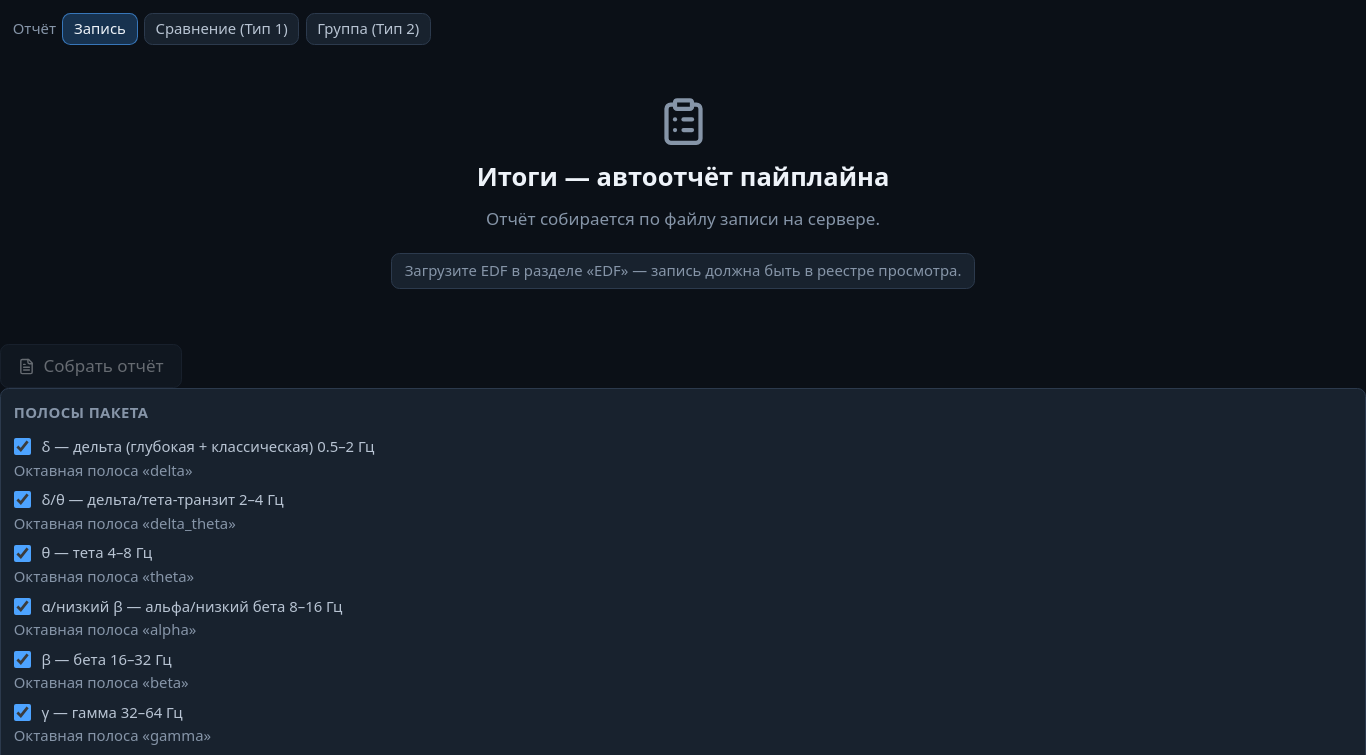
Test: «Итоги»: отчёты группового анализа (оба типа) › ошибка сборки показывается текстом сервера и не роняет раздел
Click the button "Группа (Тип 2)" at (368, 29), box [306,13,431,45]
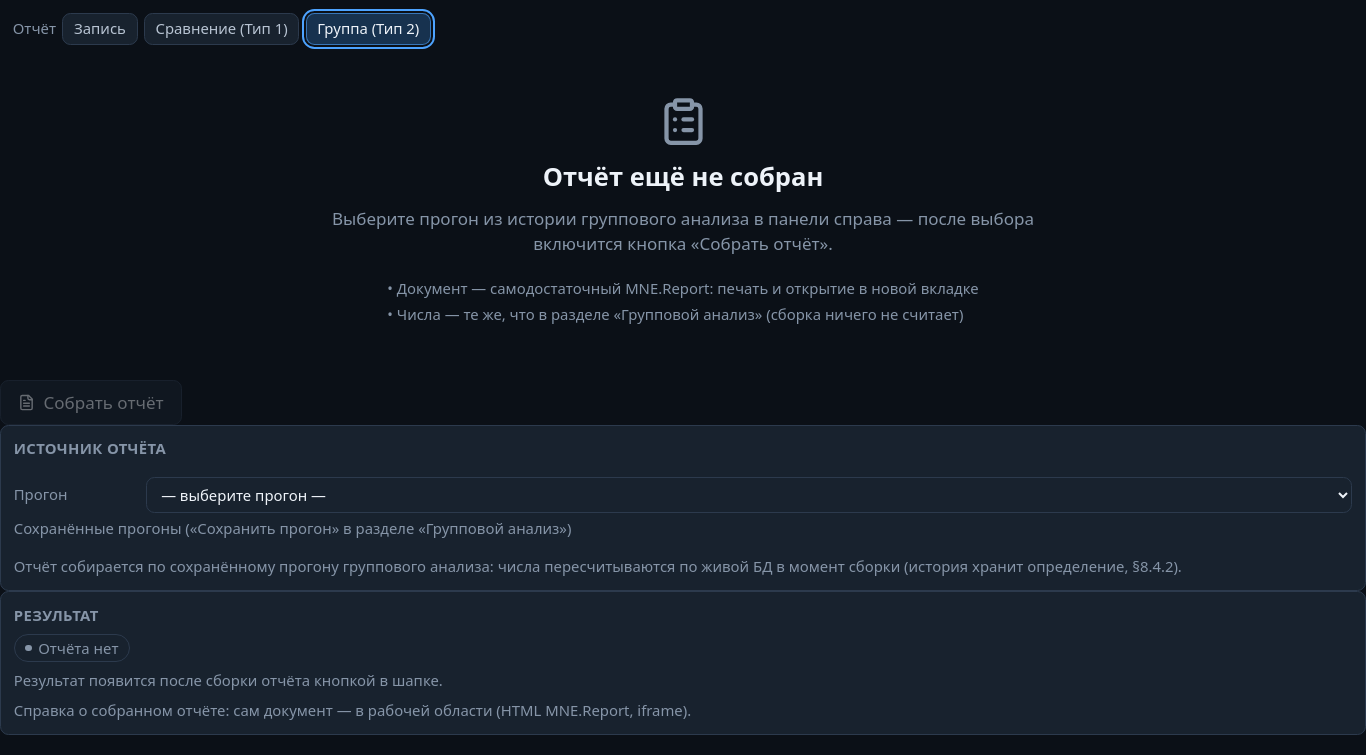
Select "покой vs деятельность · alpha · 2026-10-03 12:00" in the dropdown labelled "Прогон" at (749, 495), box [146,477,1352,514]
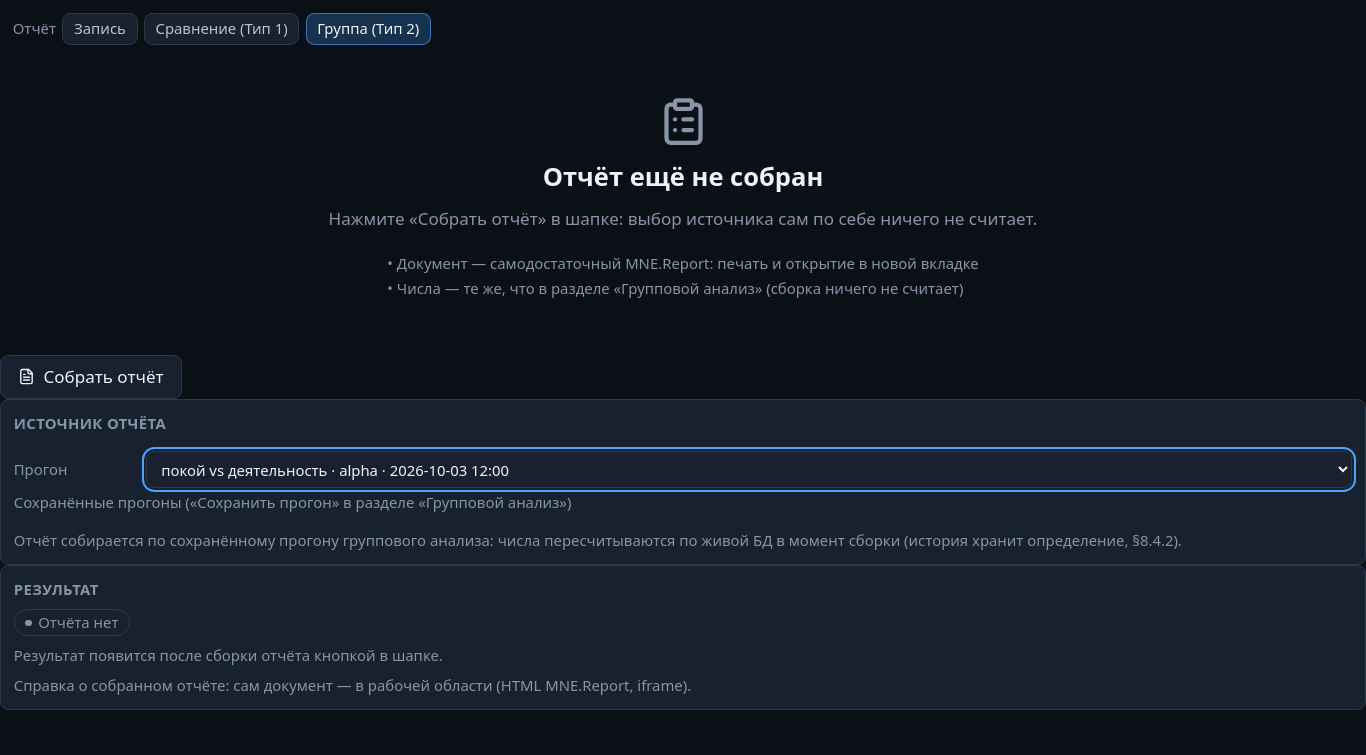
Click the button "Собрать отчёт" at (91, 377), box [0,355,182,399]
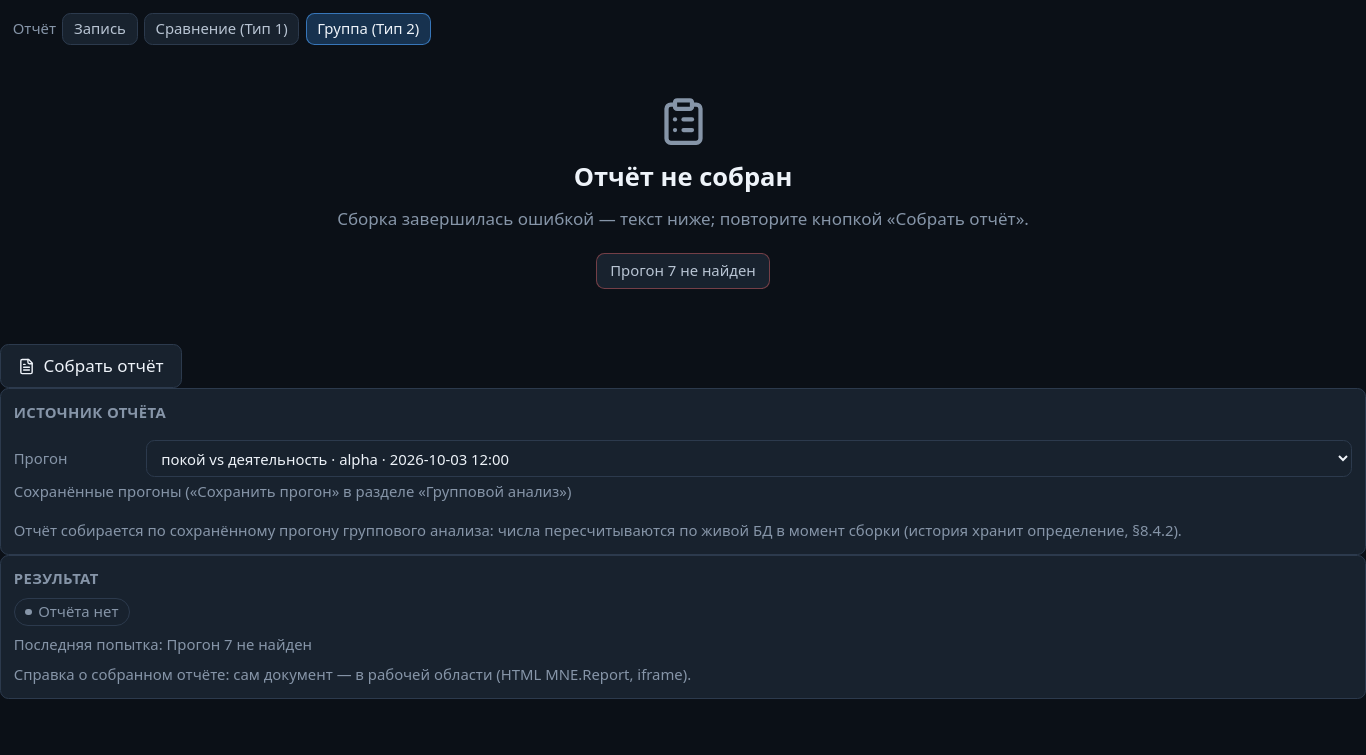
Check: the text with test id "summary-error" reads "Прогон 7 не найден", box [610,260,756,280]
